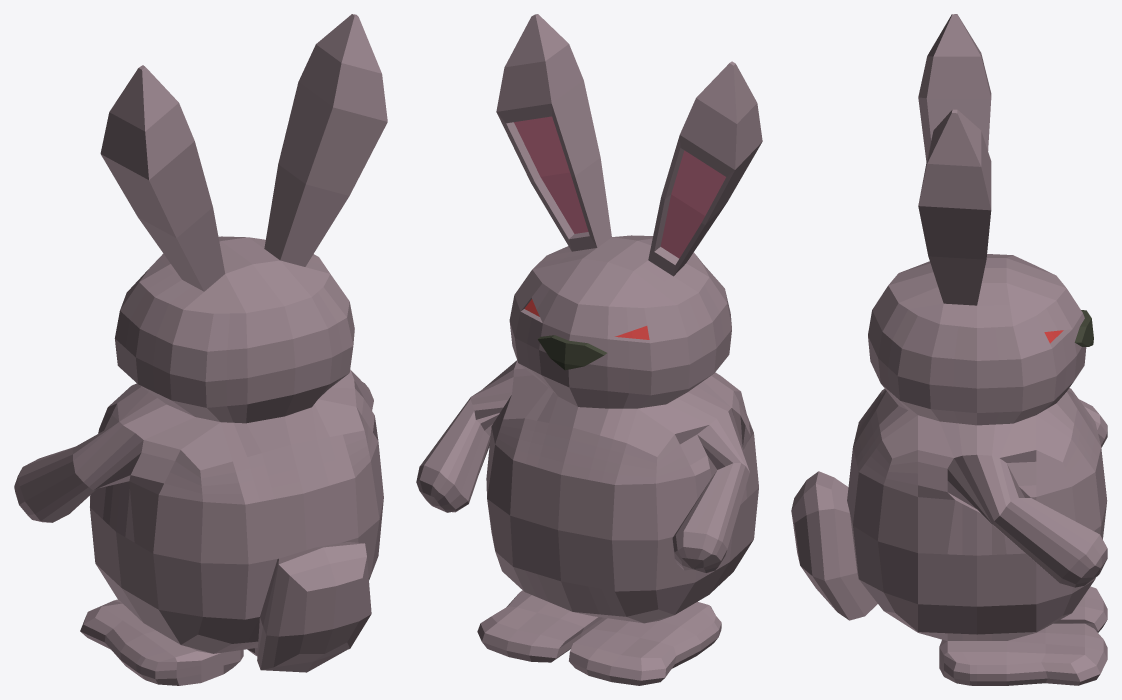
File: bunny.fbx
3 renders of one model, left to right at view 1: azimuth 30°, elevation 25°; view 2: azimuth 150°, elevation 25°; view 3: azimuth 270°, elevation 25°, orthographic. The views are drawn at different scales.
Visible parts, largest first — view 1: Cube; view 2: Cube; view 3: Cube.
Part boxes in pixels (bbox=[...]): Cube: bbox=[14, 14, 387, 685]; Cube: bbox=[416, 14, 762, 685]; Cube: bbox=[791, 14, 1107, 685].
Size of the model in its own units: 296 by 542 by 268.
